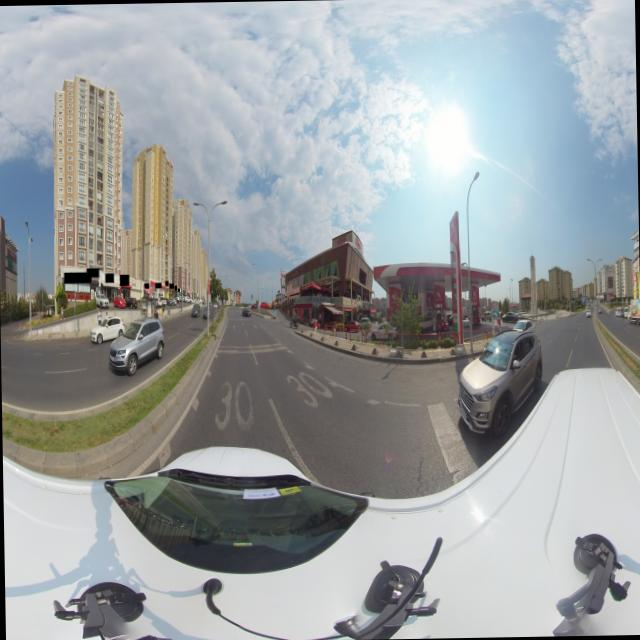SignStore: (64, 272, 91, 283), (86, 268, 99, 277), (119, 274, 129, 285), (105, 273, 114, 282), (155, 282, 161, 288), (169, 283, 174, 288), (144, 283, 149, 288), (174, 285, 177, 290), (165, 281, 168, 285), (177, 288, 179, 291)
